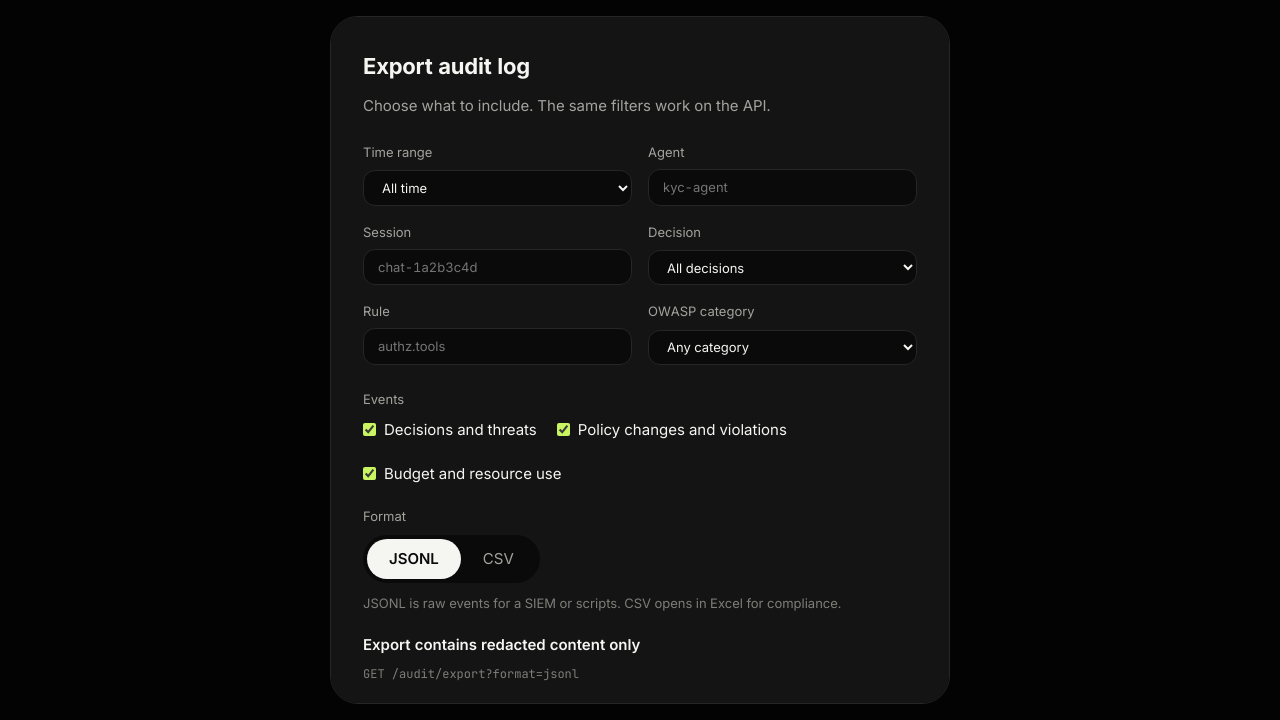
ExportDialog › limits the time range with a preset or a custom range and ignores invalid input
Select "Last hour" in the dropdown labelled "Time range" at (498, 188), box [363,170,632,206]
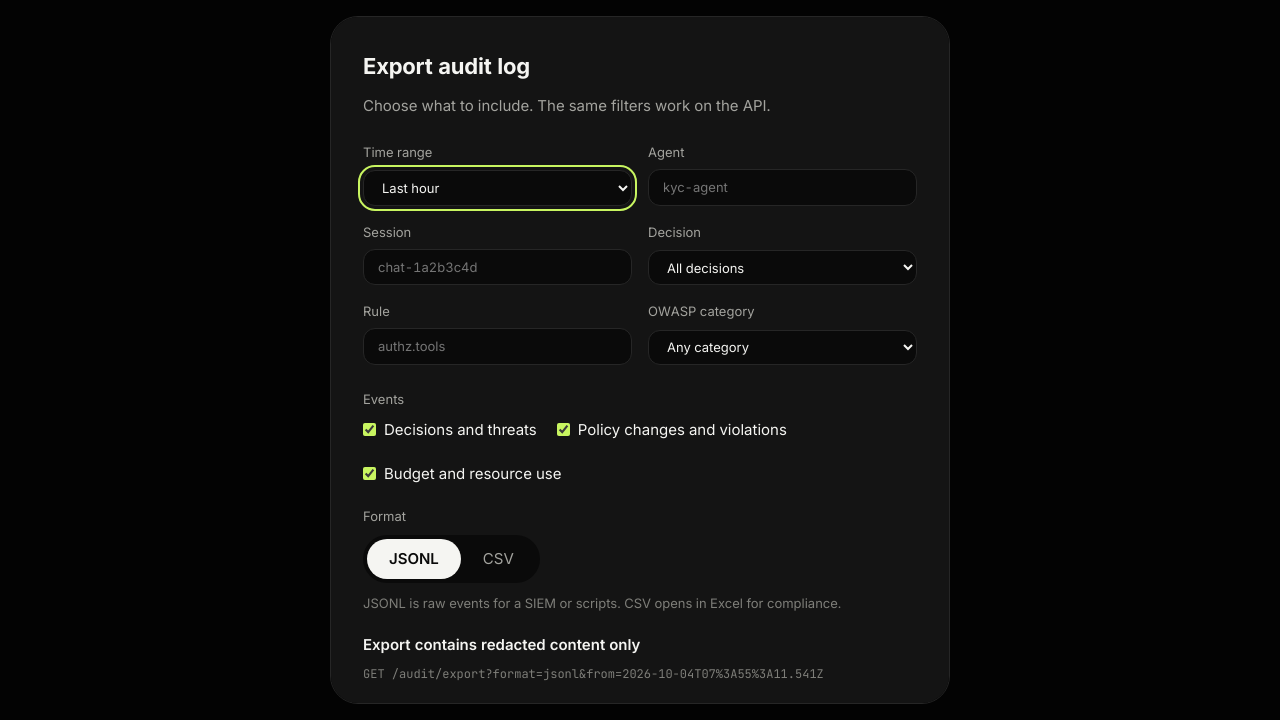
Select "Custom range" in the dropdown labelled "Time range" at (498, 188), box [363,170,632,206]
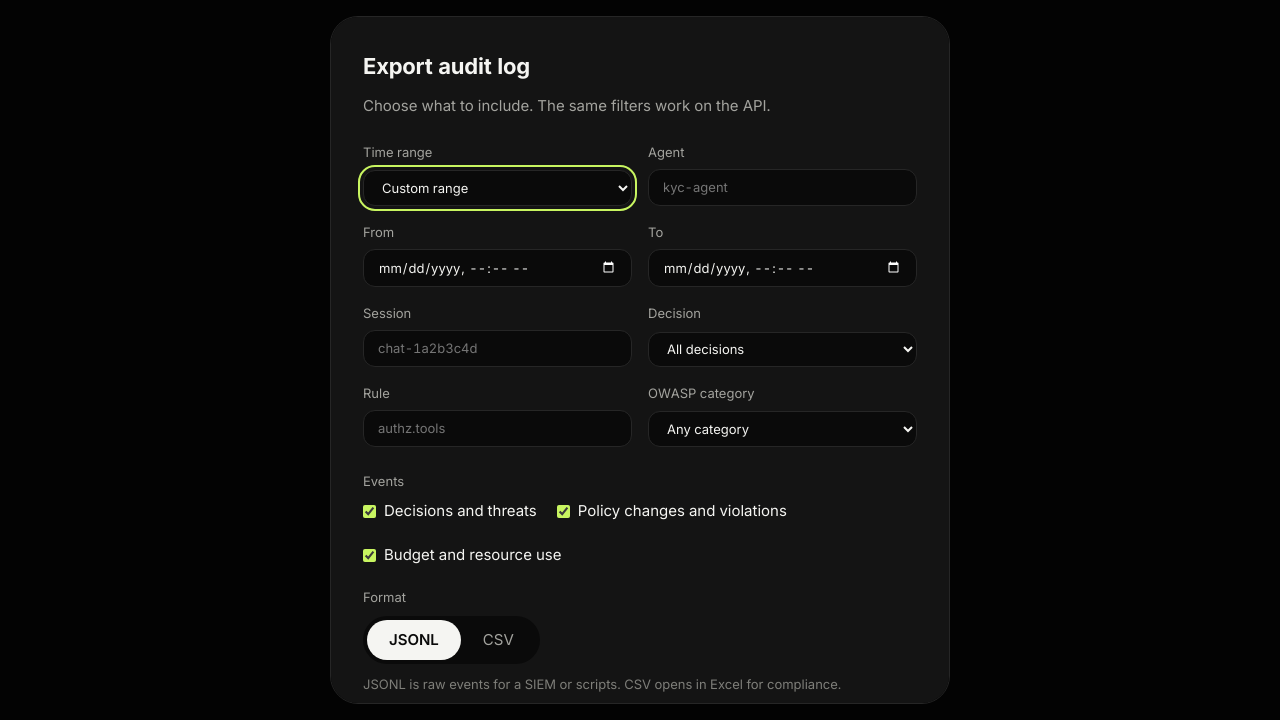
Type "2026-10-03T14:00" into the field labelled "From" at (498, 268), box [363,249,632,287]
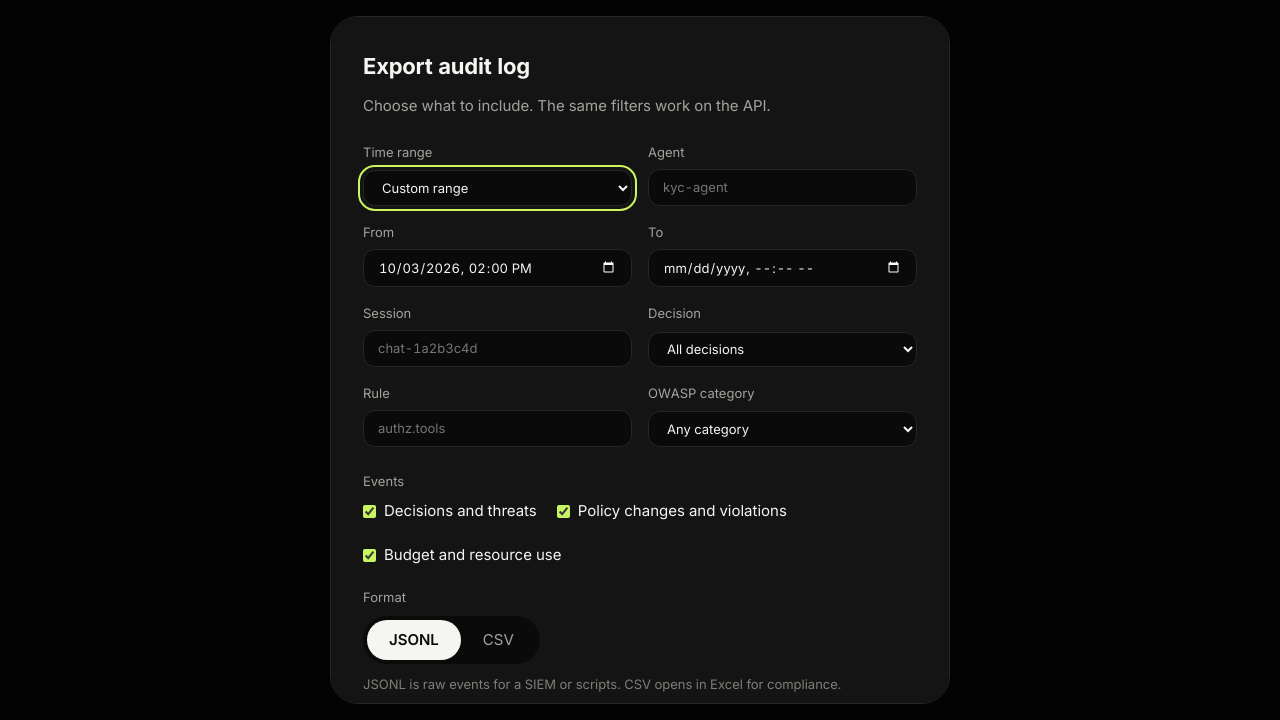
Clear the field labelled "From" at (498, 268), box [363,249,632,287]
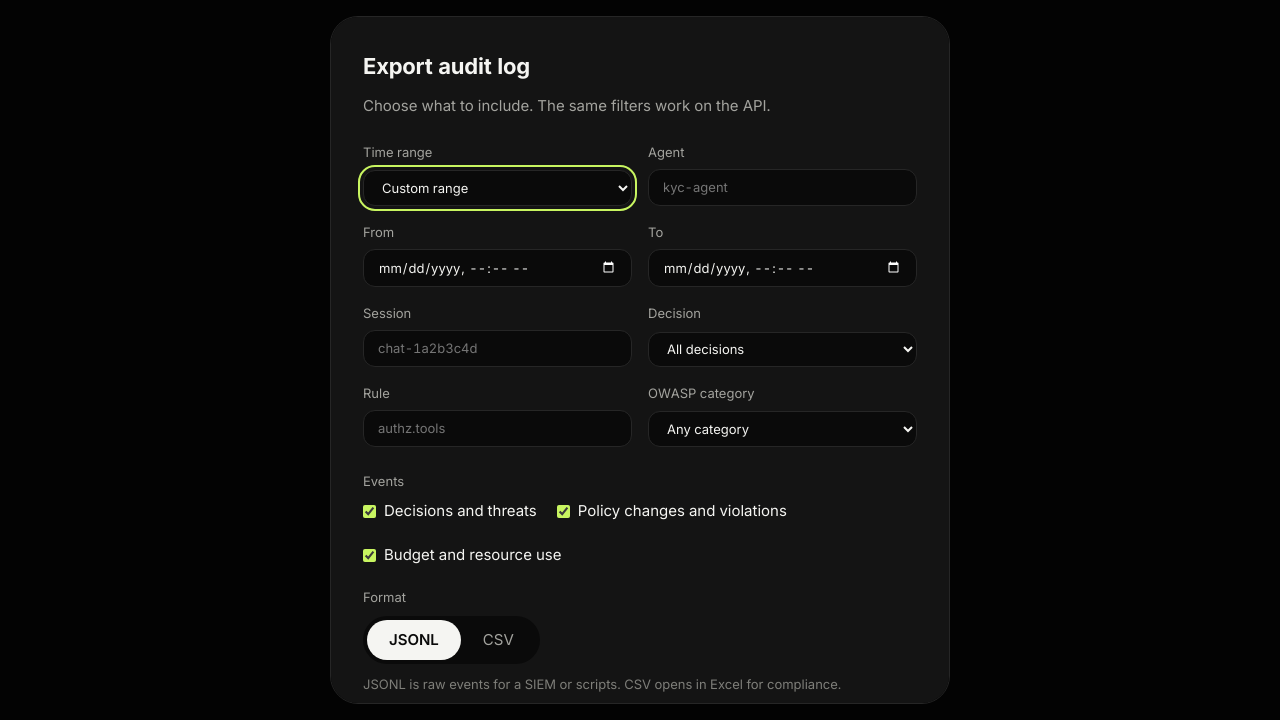
Select "All time" in the dropdown labelled "Time range" at (498, 188), box [363,170,632,206]
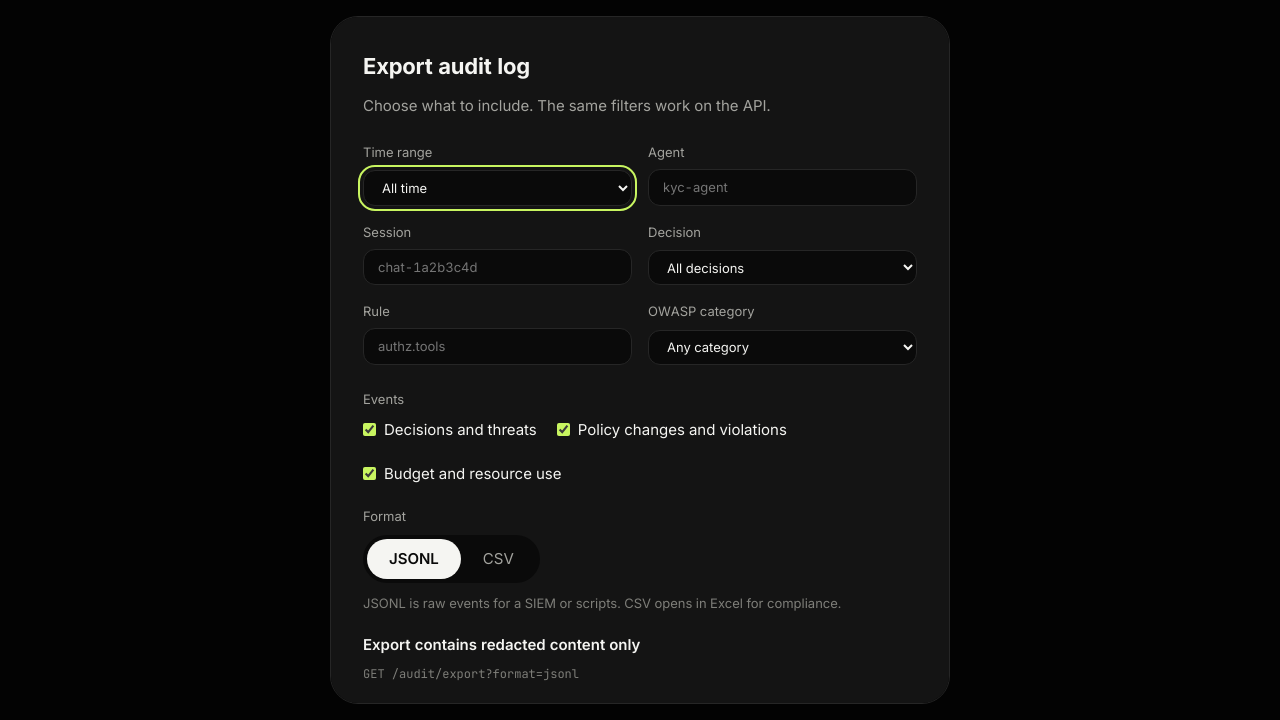
Expected: the label labelled "From" is gone
